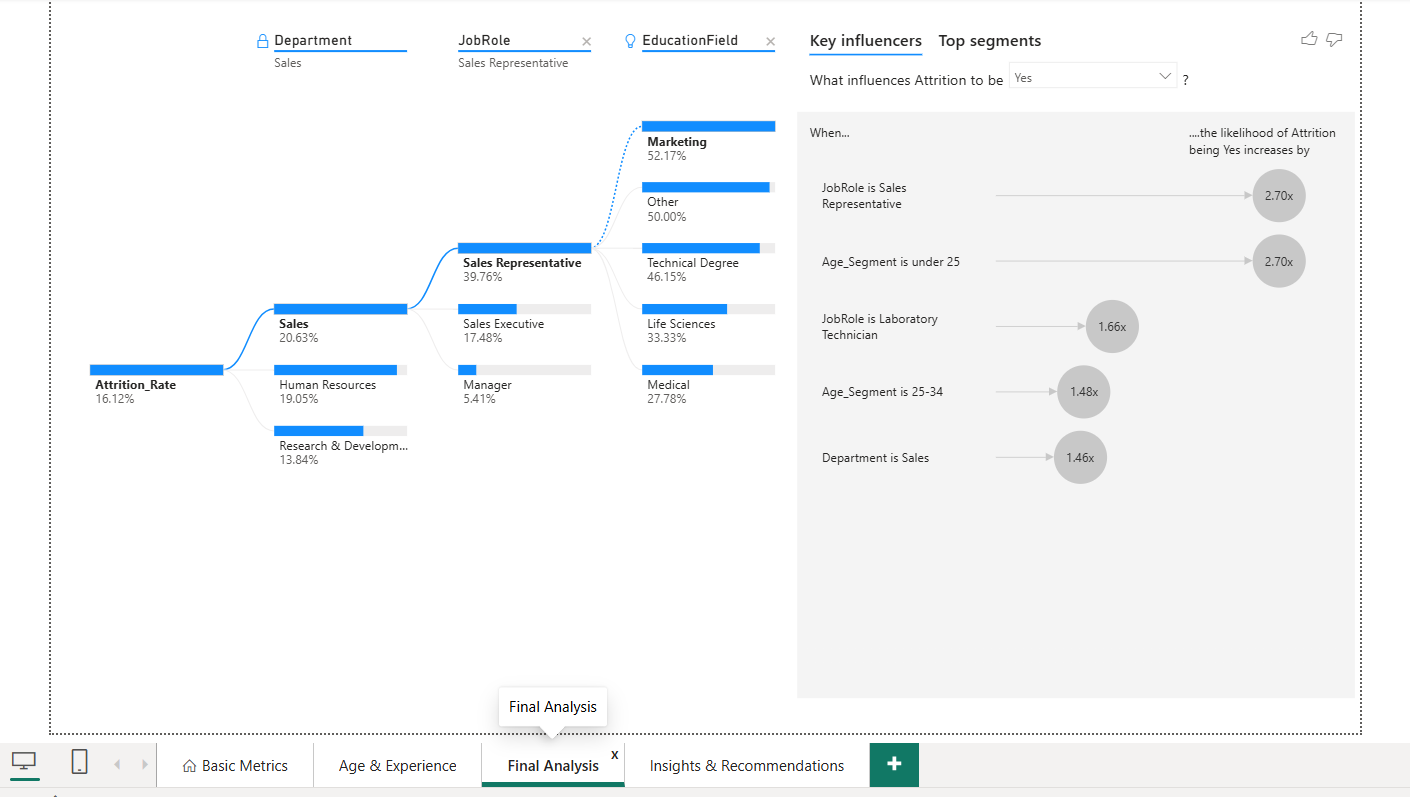

The dashboard page shown, as its layout file describes it:
{"tool":"powerbi","page":{"name":"Final Analysis","canvas":[1280,720],"ordinal":2},"visuals":[{"type":"decompositionTreeVisual","fields":{"Analyze":["_Measures.Attrition_Rate"],"ExplainBy":["Dim_Department.Department","Dim_JobRole.JobRole","Dim_EducationField.EducationField"]},"box":[8.6,17.1,716.6,673.8],"z":0},{"type":"keyDriversVisual","fields":{"Target":["Fact.Attrition"],"ExplainBy":["Dim_Department.Department","Dim_JobRole.JobRole","Fact.Age_Segment"]},"box":[725.1,17.1,555.2,673.8],"z":1000}]}

Visuals, with their boxes on the page's 1280x720 design canvas (x1, y1, x2, y2). These are canvas units, not pixel positions in the 1410x797 screenshot, which may show the page scaled, cropped or inside an application window:
decompositionTreeVisual - _Measures.Attrition_Rate x Dim_Department.Department: left=9, top=17, right=725, bottom=691
keyDriversVisual - Fact.Attrition x Dim_Department.Department: left=725, top=17, right=1280, bottom=691
